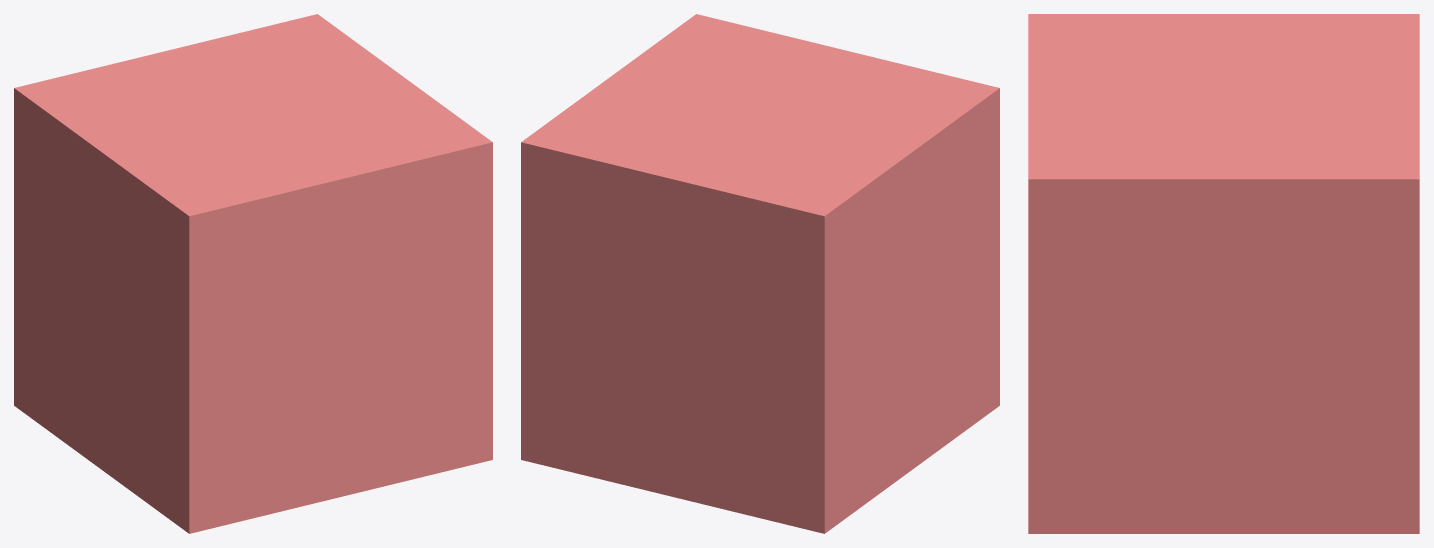
The model's file is bushleaf.FBX.
3 views of the same model, side by side, from view 1: azimuth 30°, elevation 25°; view 2: azimuth 150°, elevation 25°; view 3: azimuth 270°, elevation 25° (orthographic). The views are drawn at different scales.
Parts seen in each view (by area): view 1: BushLeaf001; view 2: BushLeaf001; view 3: BushLeaf001.
Boxes of the visible parts, bbox=[...] form: BushLeaf001: bbox=[14, 14, 492, 533]; BushLeaf001: bbox=[521, 14, 999, 533]; BushLeaf001: bbox=[1028, 14, 1419, 533].
Size of the model in its own units: 264 by 264 by 264.
